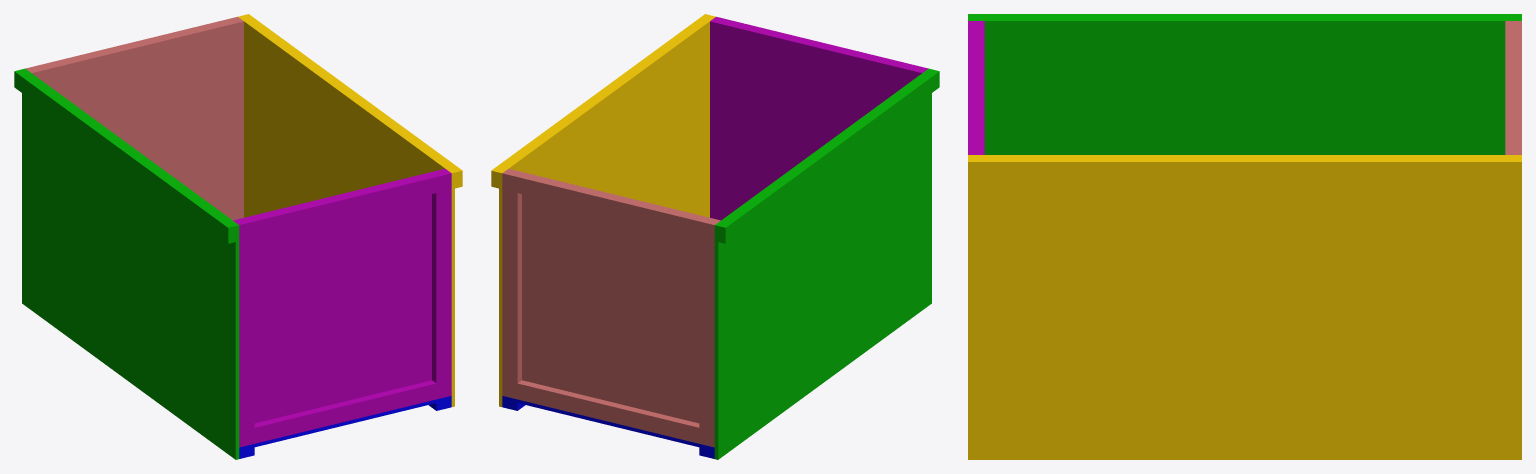
Rendered from result.glb.
The picture shows the model from 3 angles, left to right: view 1: azimuth 30°, elevation 25°; view 2: azimuth 150°, elevation 25°; view 3: azimuth 270°, elevation 25°; orthographic projection. The views are drawn at different scales.
Parts seen in each view (by area): view 1: 72170d01-d320-41e1-9333-3e89487b75aa__Box_6, 311904b3-60b6-477c-9fcc-89ccf3a4e80c__Box_3, 2fe7f6a9-570d-466e-8467-45cb71324ede__undefined, 0c83d941-eb04-4b2c-b084-b1ecdf455356__undefined, 33f0c925-0902-407c-b9e5-057a78d21d1e__Box_7, 585db0b7-d7dc-401d-a9d8-d724316e52bb__undefined, 48bb04cc-c625-4d1d-bd0d-dc0ae4e97e76__undefined, 53f300a3-037b-4fde-9f9e-ace55b38b0e1__Box_5, 4bbf12db-0e04-4d3f-b6f1-86d8002749bc__Box_4, 0e21a3ce-b018-4f0c-9db4-f72a00b3ff2a__undefined, ff665acd-1887-4640-9d9a-663df8e88405__undefined, ac511dbc-1957-4cc5-a37c-c019a7c21ec4__Box; view 2: 72170d01-d320-41e1-9333-3e89487b75aa__Box_6, 2fe7f6a9-570d-466e-8467-45cb71324ede__undefined, 311904b3-60b6-477c-9fcc-89ccf3a4e80c__Box_3, 0c83d941-eb04-4b2c-b084-b1ecdf455356__undefined, 33f0c925-0902-407c-b9e5-057a78d21d1e__Box_7, a2ff439e-6dc5-4670-8744-01cfd162d9e5__undefined, ff665acd-1887-4640-9d9a-663df8e88405__undefined, 06e7e9a6-9262-496b-8b06-e33c8acb40b1__undefined, 7c417c1e-ee5f-4998-8a07-2845ced8f5ef__undefined, 0e21a3ce-b018-4f0c-9db4-f72a00b3ff2a__undefined, 48bb04cc-c625-4d1d-bd0d-dc0ae4e97e76__undefined, ac511dbc-1957-4cc5-a37c-c019a7c21ec4__Box; view 3: 0c83d941-eb04-4b2c-b084-b1ecdf455356__undefined, 72170d01-d320-41e1-9333-3e89487b75aa__Box_6, 0e21a3ce-b018-4f0c-9db4-f72a00b3ff2a__undefined, 33f0c925-0902-407c-b9e5-057a78d21d1e__Box_7, 48bb04cc-c625-4d1d-bd0d-dc0ae4e97e76__undefined, ff665acd-1887-4640-9d9a-663df8e88405__undefined, 311904b3-60b6-477c-9fcc-89ccf3a4e80c__Box_3, 2fe7f6a9-570d-466e-8467-45cb71324ede__undefined.
Part boxes in pixels (left/top/right/bottom): 72170d01-d320-41e1-9333-3e89487b75aa__Box_6: left=22, top=68, right=239, bottom=459; 311904b3-60b6-477c-9fcc-89ccf3a4e80c__Box_3: left=233, top=168, right=446, bottom=423; 2fe7f6a9-570d-466e-8467-45cb71324ede__undefined: left=30, top=20, right=243, bottom=220; 0c83d941-eb04-4b2c-b084-b1ecdf455356__undefined: left=238, top=16, right=454, bottom=406; 33f0c925-0902-407c-b9e5-057a78d21d1e__Box_7: left=14, top=69, right=235, bottom=243; 585db0b7-d7dc-401d-a9d8-d724316e52bb__undefined: left=432, top=170, right=451, bottom=399; 48bb04cc-c625-4d1d-bd0d-dc0ae4e97e76__undefined: left=250, top=174, right=436, bottom=237; 53f300a3-037b-4fde-9f9e-ace55b38b0e1__Box_5: left=254, top=380, right=436, bottom=443; 4bbf12db-0e04-4d3f-b6f1-86d8002749bc__Box_4: left=235, top=218, right=254, bottom=447; 0e21a3ce-b018-4f0c-9db4-f72a00b3ff2a__undefined: left=241, top=14, right=462, bottom=188; ff665acd-1887-4640-9d9a-663df8e88405__undefined: left=41, top=20, right=226, bottom=67; ac511dbc-1957-4cc5-a37c-c019a7c21ec4__Box: left=239, top=396, right=451, bottom=450; 72170d01-d320-41e1-9333-3e89487b75aa__Box_6: left=714, top=68, right=931, bottom=459; 2fe7f6a9-570d-466e-8467-45cb71324ede__undefined: left=507, top=168, right=720, bottom=423; 311904b3-60b6-477c-9fcc-89ccf3a4e80c__Box_3: left=710, top=20, right=923, bottom=220; 0c83d941-eb04-4b2c-b084-b1ecdf455356__undefined: left=499, top=16, right=715, bottom=406; 33f0c925-0902-407c-b9e5-057a78d21d1e__Box_7: left=718, top=69, right=939, bottom=243; a2ff439e-6dc5-4670-8744-01cfd162d9e5__undefined: left=502, top=170, right=521, bottom=399; ff665acd-1887-4640-9d9a-663df8e88405__undefined: left=517, top=174, right=703, bottom=237; 06e7e9a6-9262-496b-8b06-e33c8acb40b1__undefined: left=517, top=380, right=699, bottom=443; 7c417c1e-ee5f-4998-8a07-2845ced8f5ef__undefined: left=699, top=218, right=718, bottom=447; 0e21a3ce-b018-4f0c-9db4-f72a00b3ff2a__undefined: left=491, top=14, right=712, bottom=188; 48bb04cc-c625-4d1d-bd0d-dc0ae4e97e76__undefined: left=727, top=20, right=912, bottom=67; ac511dbc-1957-4cc5-a37c-c019a7c21ec4__Box: left=502, top=396, right=714, bottom=450; 0c83d941-eb04-4b2c-b084-b1ecdf455356__undefined: left=968, top=155, right=1521, bottom=459; 72170d01-d320-41e1-9333-3e89487b75aa__Box_6: left=968, top=18, right=1521, bottom=154; 0e21a3ce-b018-4f0c-9db4-f72a00b3ff2a__undefined: left=968, top=157, right=1521, bottom=182; 33f0c925-0902-407c-b9e5-057a78d21d1e__Box_7: left=968, top=14, right=1521, bottom=18; 48bb04cc-c625-4d1d-bd0d-dc0ae4e97e76__undefined: left=968, top=30, right=979, bottom=145; ff665acd-1887-4640-9d9a-663df8e88405__undefined: left=1510, top=30, right=1521, bottom=145; 311904b3-60b6-477c-9fcc-89ccf3a4e80c__Box_3: left=979, top=21, right=984, bottom=154; 2fe7f6a9-570d-466e-8467-45cb71324ede__undefined: left=1505, top=21, right=1510, bottom=154.
Size of the model in its own units: 552 by 526 by 872.
